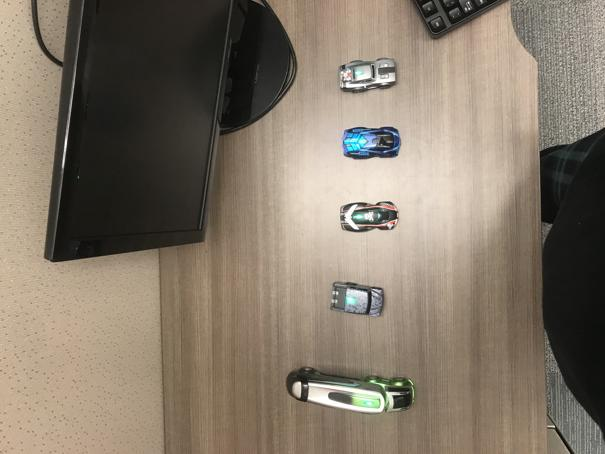Charger: (337, 57, 401, 90)
Freewheel: (284, 365, 416, 417)
MXT: (330, 279, 386, 319)
Shock: (340, 126, 403, 161)
Skull: (339, 201, 399, 233)
